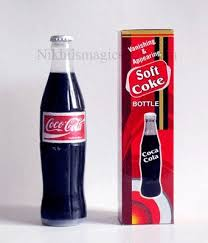coke-glass-bottle: (39, 31, 92, 227)
